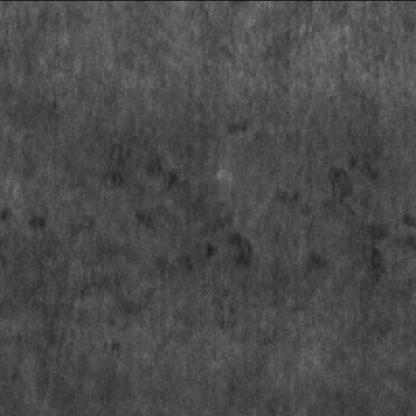rolled-in_scale: (112, 152, 260, 276)
